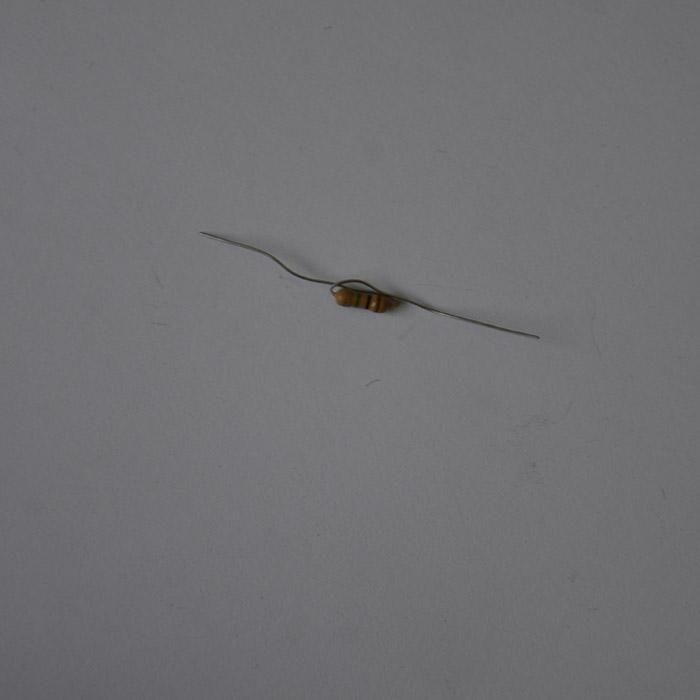resistor: (331, 286, 397, 313)
